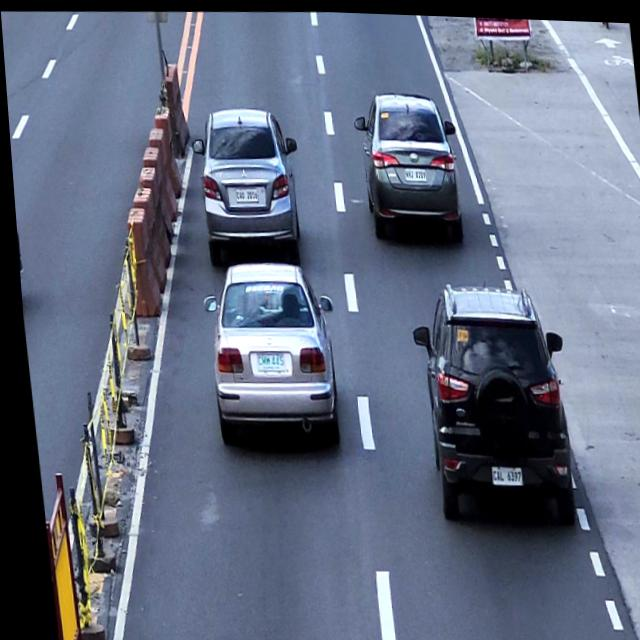Car: (402, 273, 575, 525), (194, 255, 341, 447), (186, 102, 306, 267), (348, 85, 464, 240)
License-Plate: (482, 458, 517, 483), (248, 347, 280, 371), (232, 184, 257, 201), (401, 163, 425, 180)
